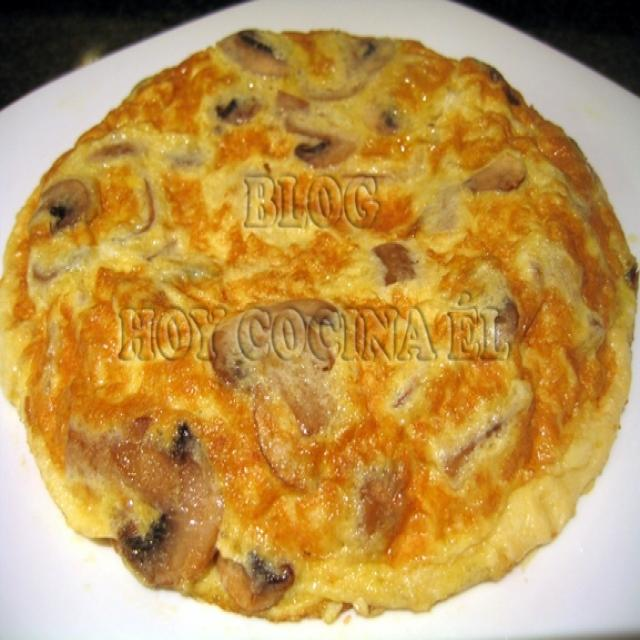面包点心: (21, 37, 619, 602)
